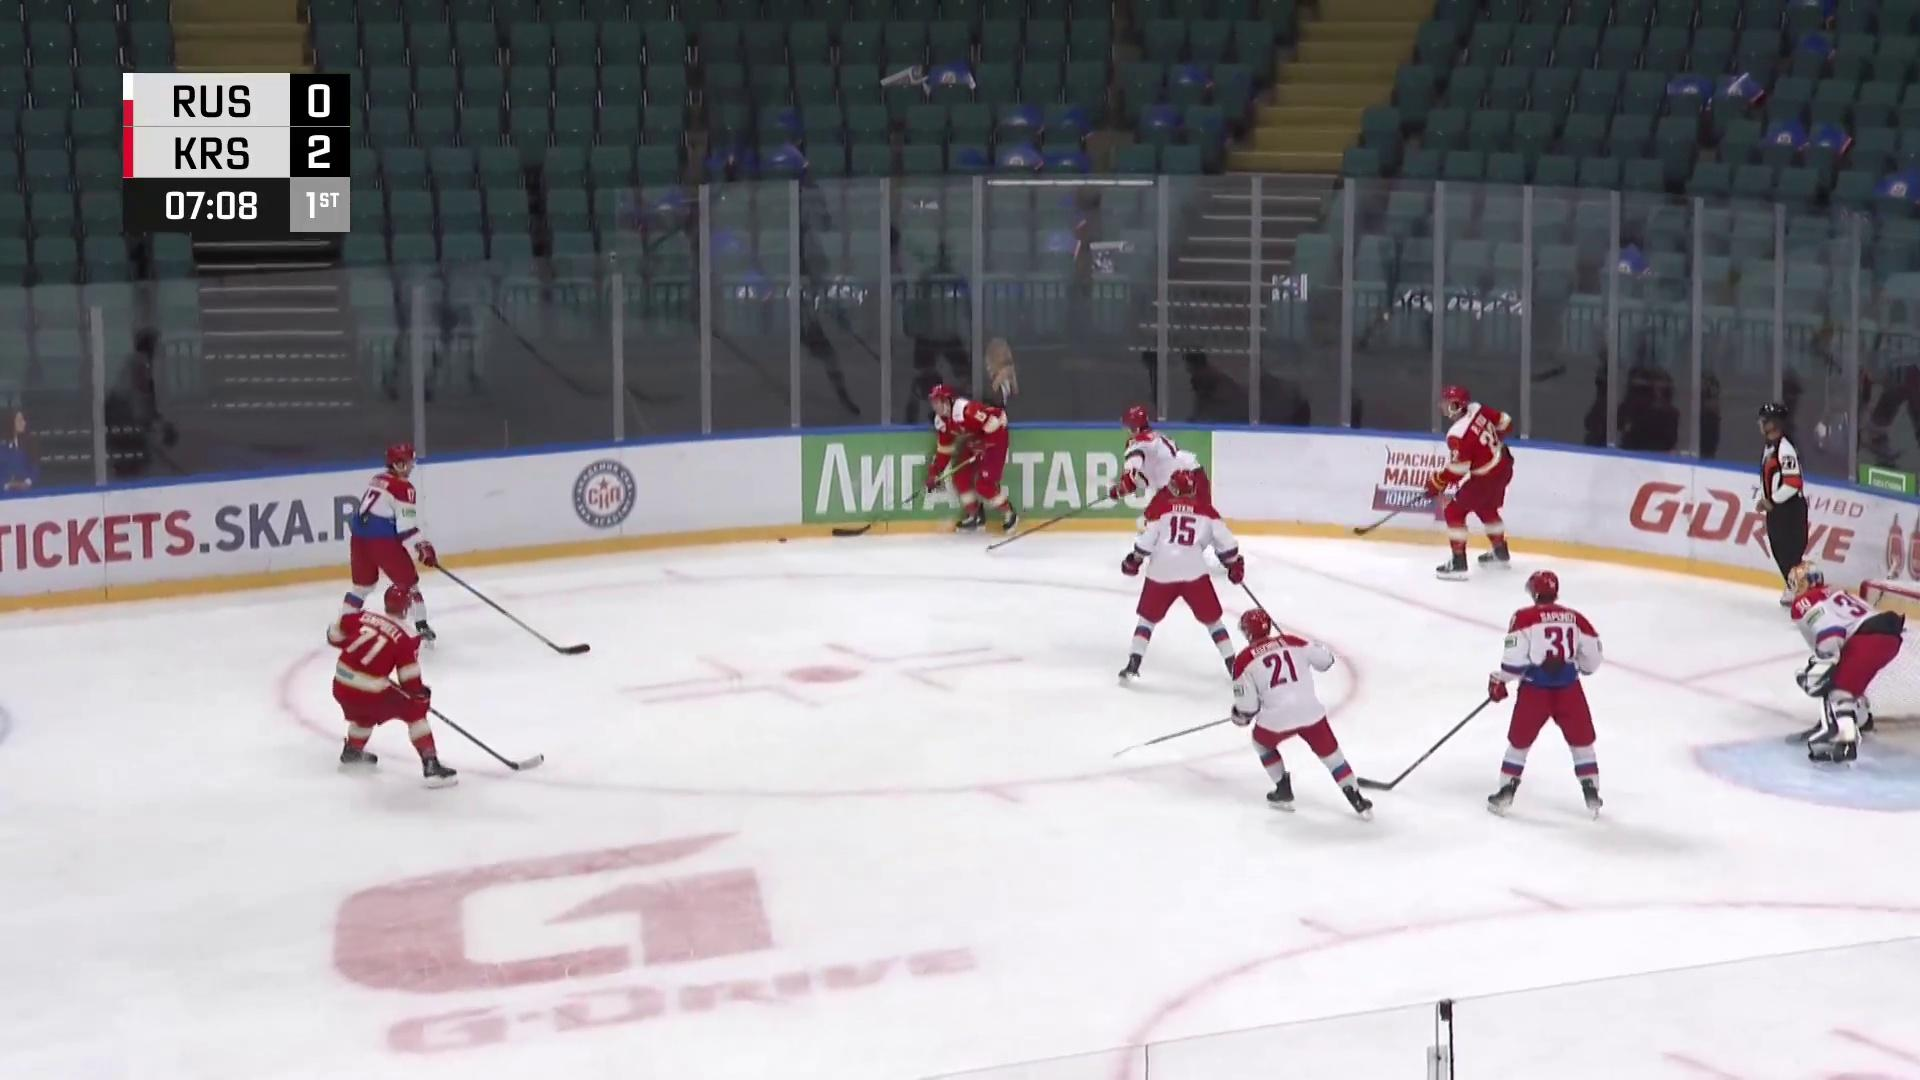ball: (775, 537, 790, 546)
